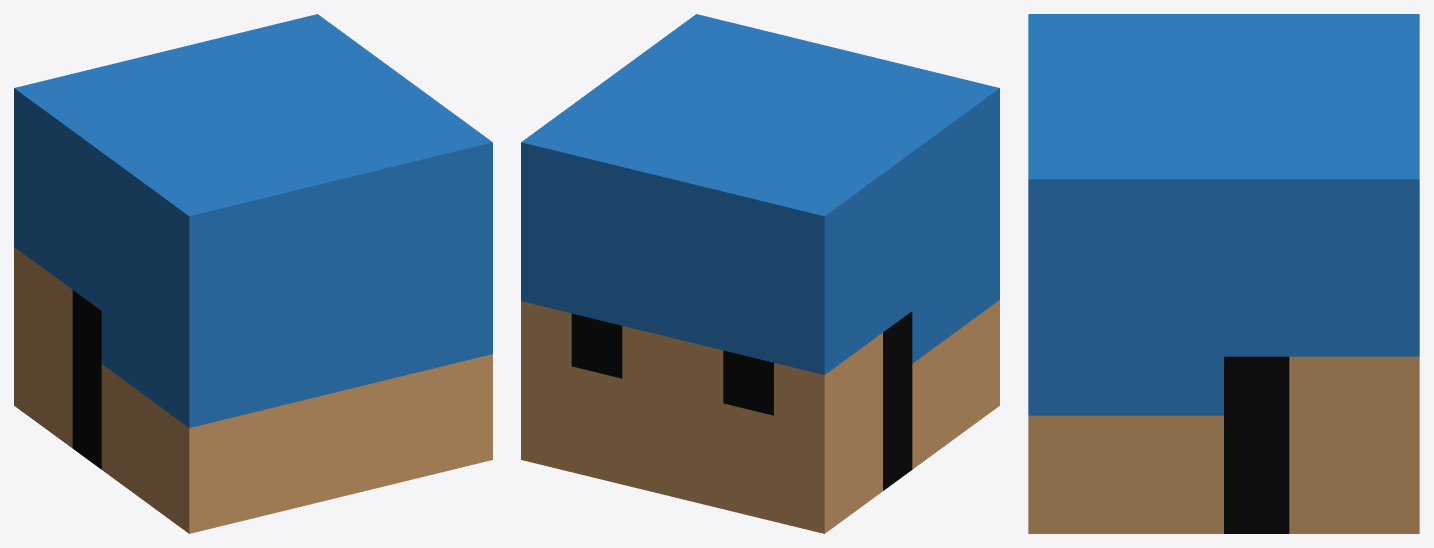
Rendered from Head.glb.
The picture shows the model from 3 angles, left to right: view 1: azimuth 30°, elevation 25°; view 2: azimuth 150°, elevation 25°; view 3: azimuth 270°, elevation 25°; orthographic projection. The views are drawn at different scales.
Parts seen in each view (by area): view 1: Head; view 2: Head; view 3: Head.
Part boxes in pixels (box(x1,y1,x2,y2)): Head: box(14, 14, 492, 533); Head: box(521, 14, 999, 533); Head: box(1028, 14, 1419, 533).
Bounding box in the file's own units: 6 × 6 × 6.
